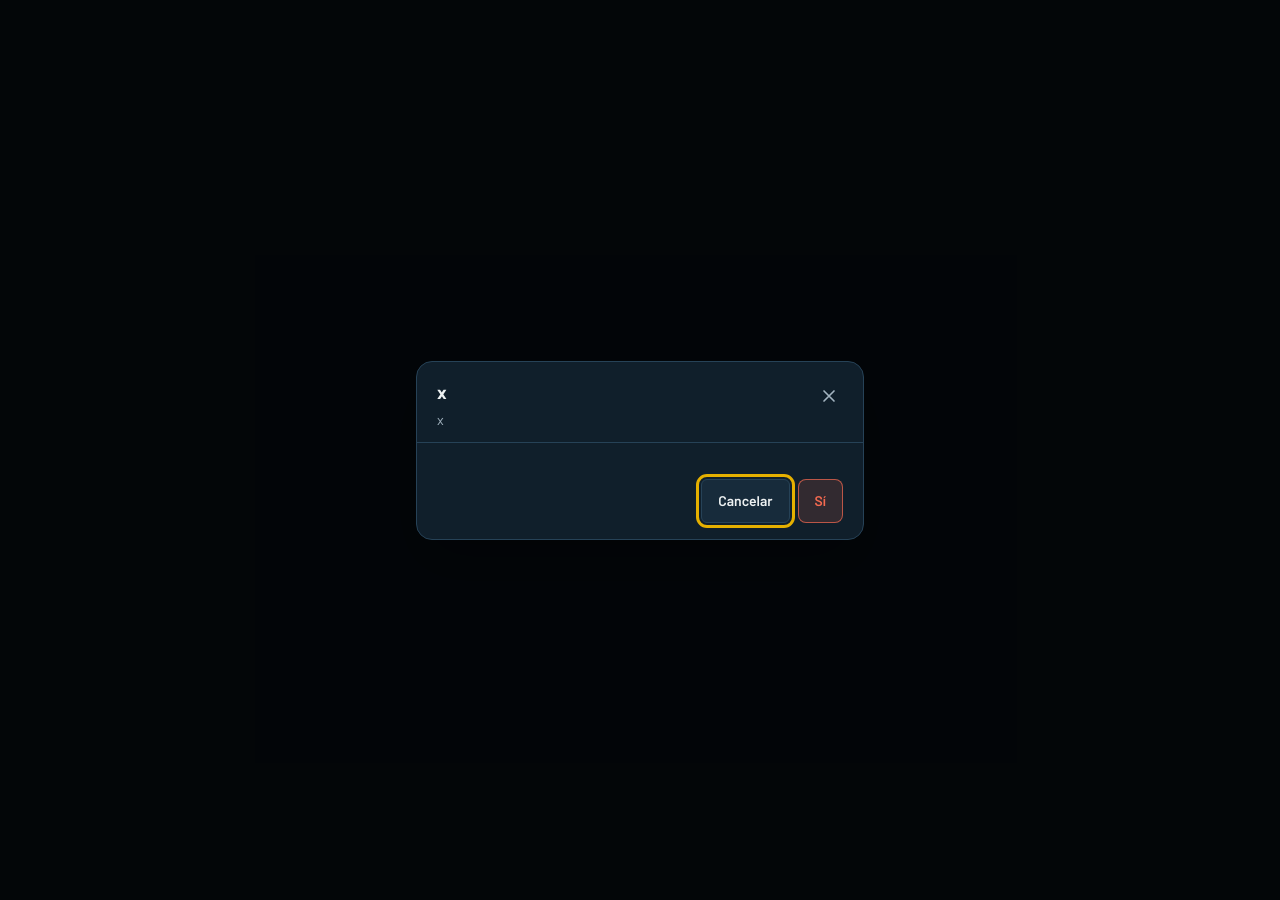
Test: ConfirmDialog › si onConfirm falla muestra el error dentro y no cierra
Click the button "Sí": (820,500) [798, 478, 843, 522]
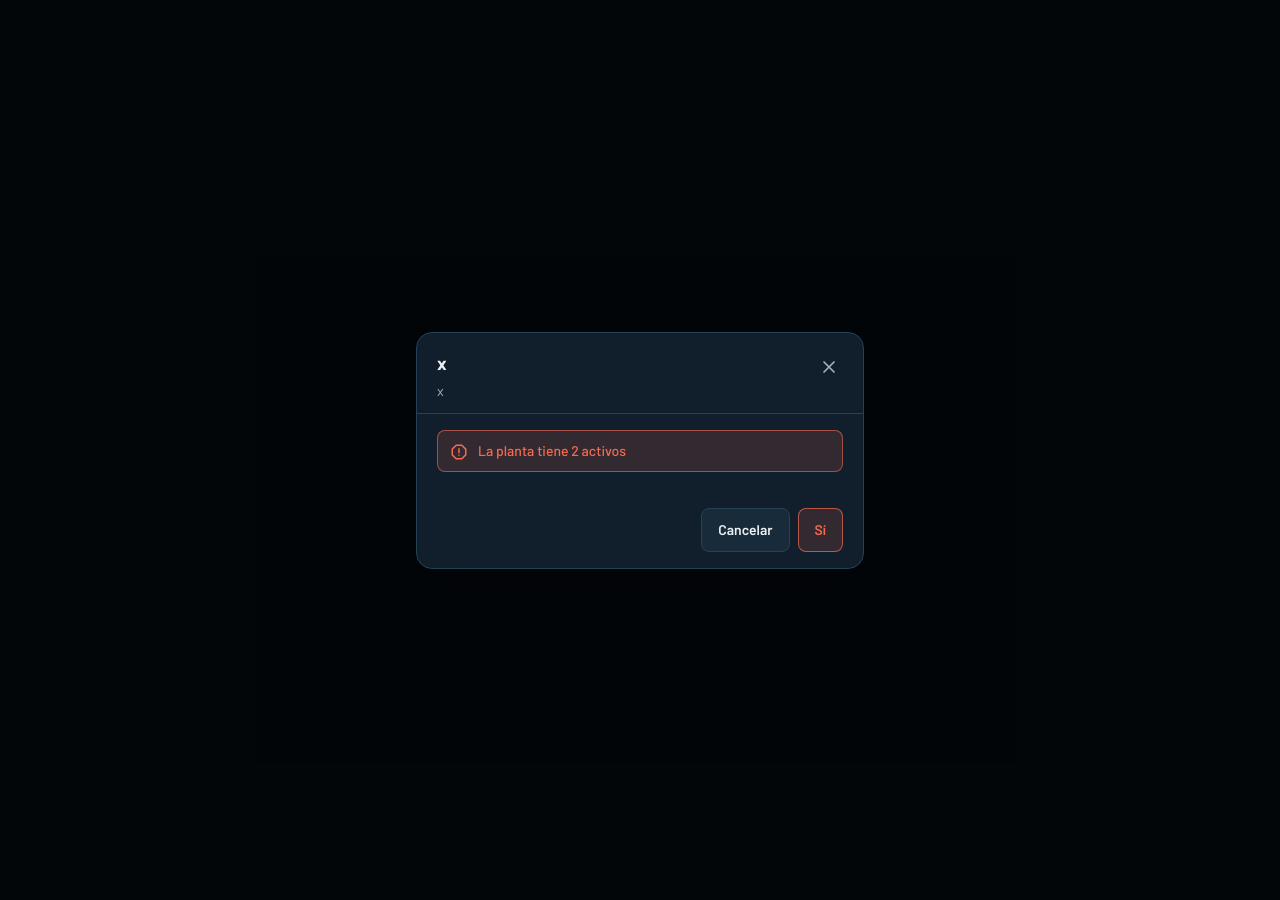
Expected: the message "La planta tiene 2 activos" is shown, [437, 430, 843, 472]
